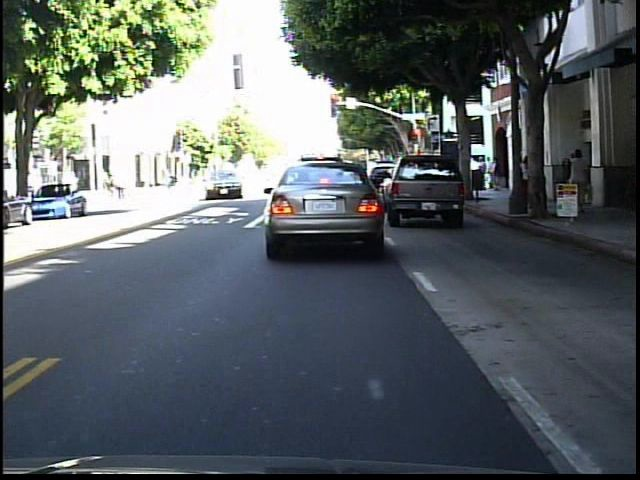person: (566, 147, 591, 212), (518, 150, 535, 212), (570, 150, 585, 204)
